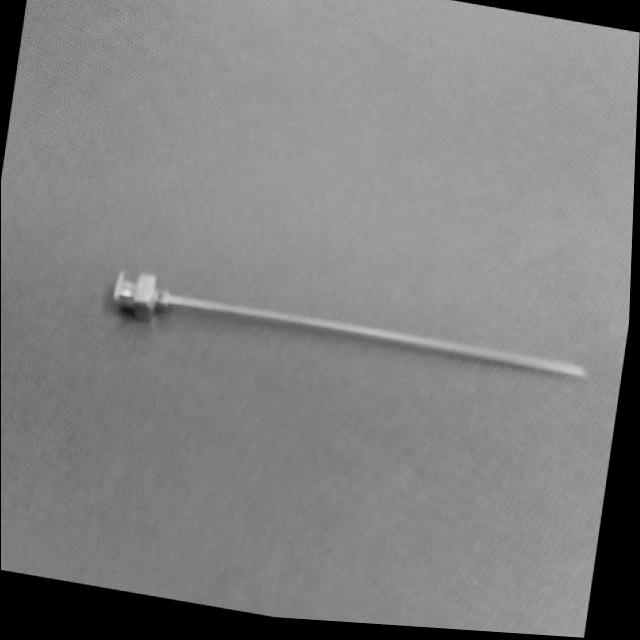Pathological: (1, 0, 638, 637)
Sharps: (111, 268, 589, 379)
